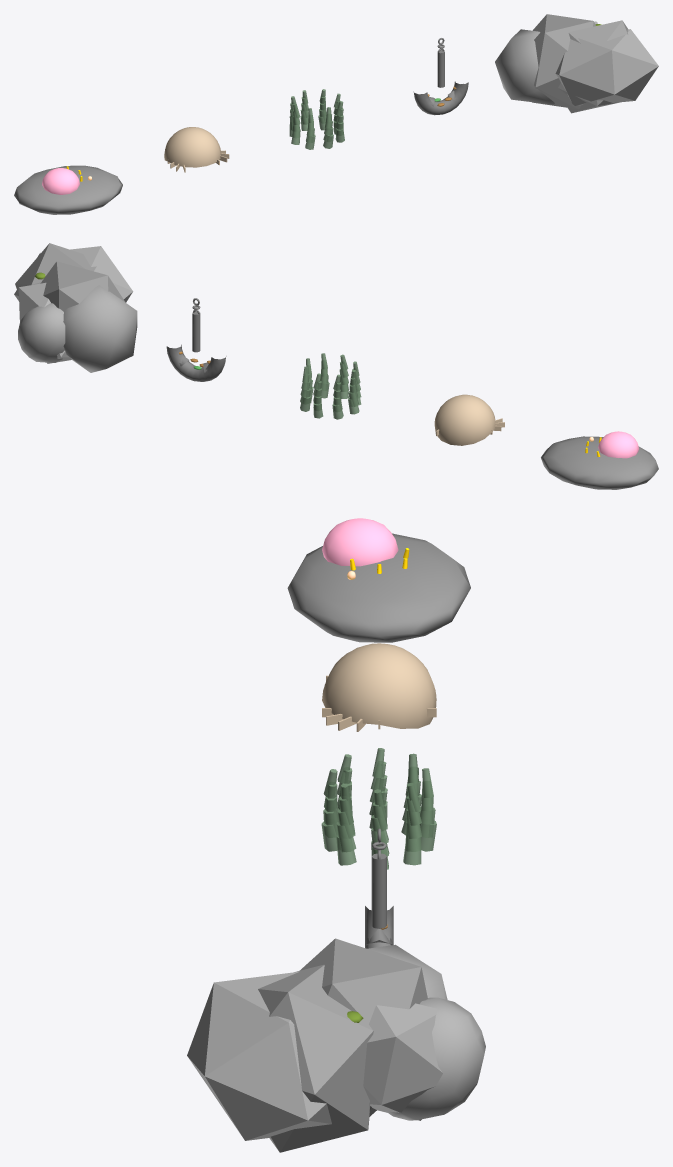
File: obstacles_underwater_mobile.glb
3 renders of one model, top to bottom at view 1: azimuth 30°, elevation 25°; view 2: azimuth 150°, elevation 25°; view 3: azimuth 270°, elevation 25°, orthographic. The views are drawn at different scales.
Parts seen in each view (by area): view 1: rockFormation_mesh (×4), coralReef_mesh (×2), giantClam_mesh (×2), sunkenAnchor_mesh; view 2: rockFormation_mesh (×6), coralReef_mesh (×2), giantClam_mesh (×2), sunkenAnchor_mesh; view 3: rockFormation_mesh (×6), coralReef_mesh (×2), giantClam_mesh (×2), sunkenAnchor_mesh.
Boxes of the visible parts, x1,y1,x2,y2 form: rockFormation_mesh (×4): (495,14,658,113); coralReef_mesh (×2): (14,165,122,214); giantClam_mesh (×2): (164,127,220,167); sunkenAnchor_mesh: (413,81,468,115); rockFormation_mesh (×6): (14,243,137,372); coralReef_mesh (×2): (541,431,658,489); giantClam_mesh (×2): (434,394,495,445); sunkenAnchor_mesh: (166,344,226,381); rockFormation_mesh (×6): (187,938,485,1152); coralReef_mesh (×2): (287,518,470,642); giantClam_mesh (×2): (322,643,436,728); sunkenAnchor_mesh: (371,853,386,928).
Size of the model in its own units: 14.7 by 2.13 by 3.13.
